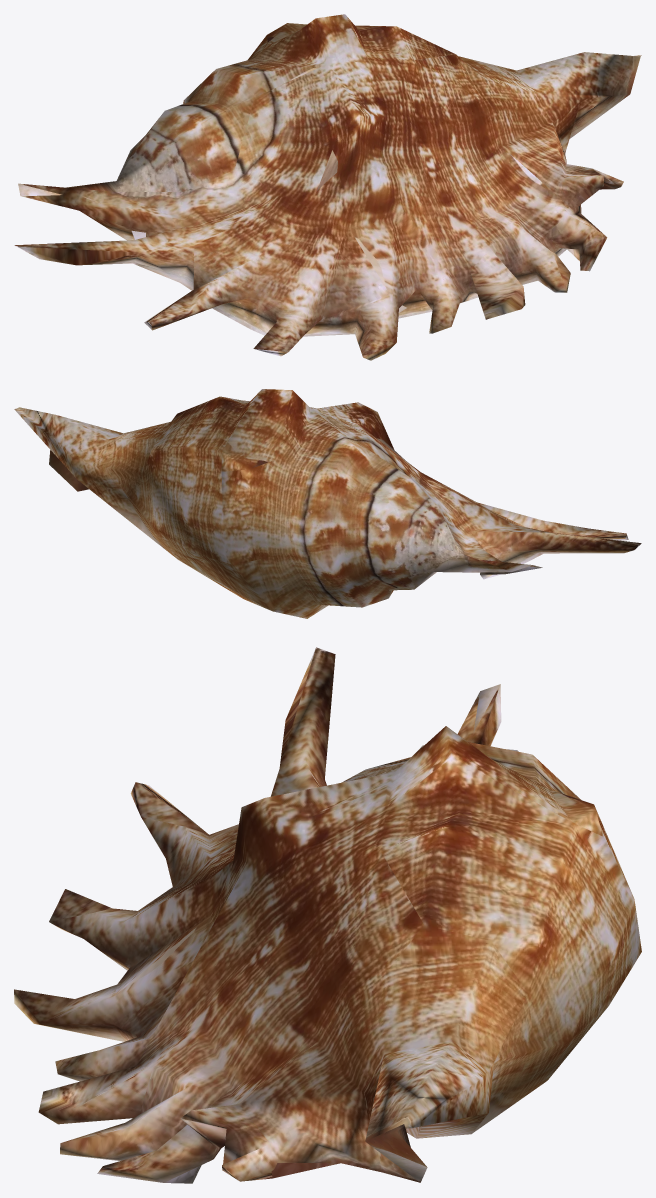
File: shell-0-far.glb
3 renders of one model, top to bottom at view 1: azimuth 30°, elevation 25°; view 2: azimuth 150°, elevation 25°; view 3: azimuth 270°, elevation 25°, orthographic. The views are drawn at different scales.
Visible parts, largest first — view 1: lambis_shell; view 2: lambis_shell; view 3: lambis_shell.
Part boxes in pixels (<box>): lambis_shell: <box>14,14,641,360</box>; lambis_shell: <box>14,389,641,618</box>; lambis_shell: <box>14,647,641,1183</box>.
Bounding box in the file's own units: 0.1387 × 0.046 × 0.0743.
Materials: 1 (1 with a texture image).
